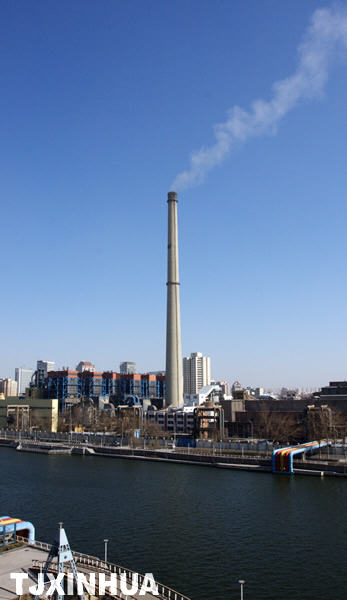dust: (146, 98, 300, 205)
